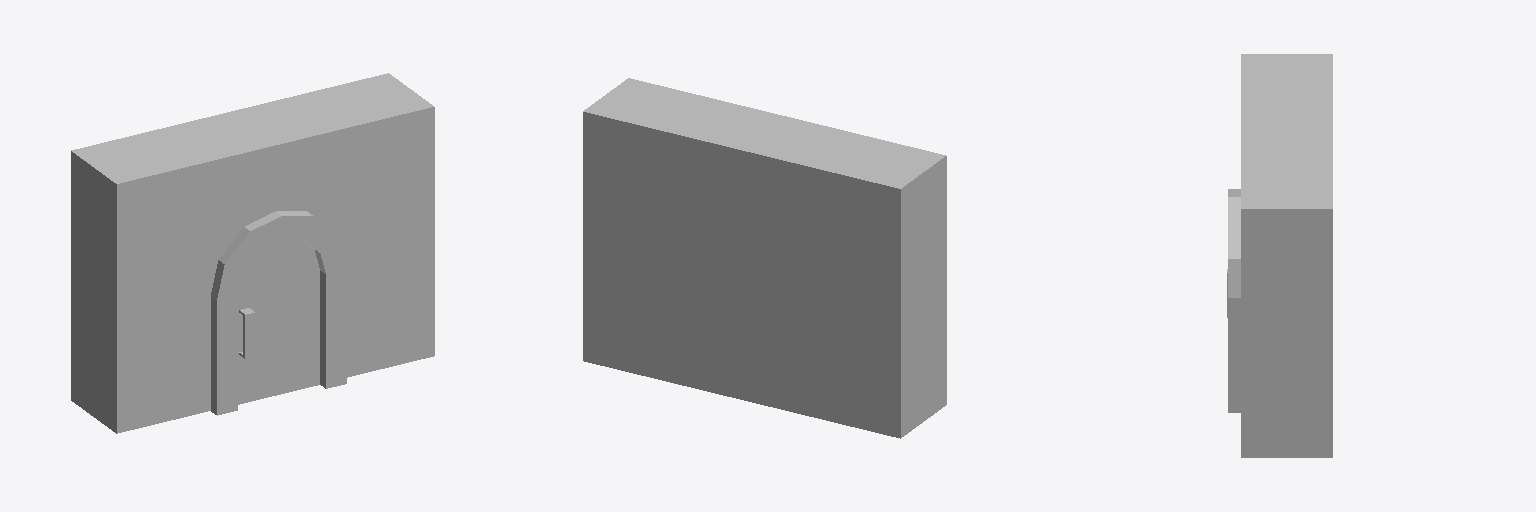
File: Door.obj
The picture shows the model from 3 angles: view 1: azimuth 30°, elevation 25°; view 2: azimuth 150°, elevation 25°; view 3: azimuth 270°, elevation 25°; orthographic projection.
Parts seen in each view (by area): view 1: Wall_Door; view 2: Wall_Door; view 3: Wall_Door.
Part boxes in pixels (bbox=[...]): Wall_Door: bbox=[71, 73, 434, 433]; Wall_Door: bbox=[583, 78, 946, 438]; Wall_Door: bbox=[1227, 54, 1332, 457].
Bounding box in the file's own units: 157 × 118 × 45.1.